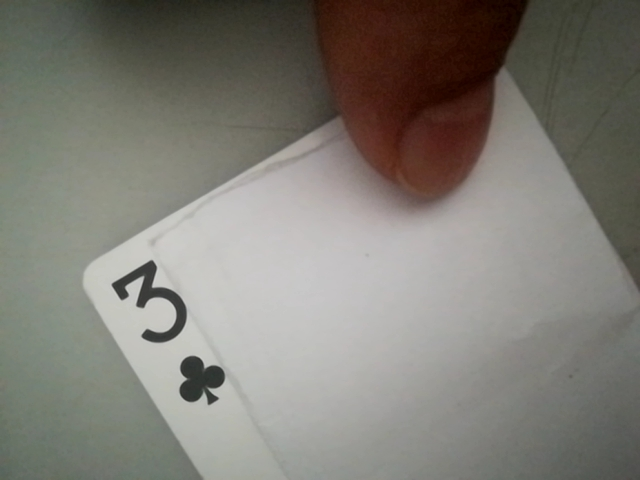mh 3: (100, 254, 231, 411)
